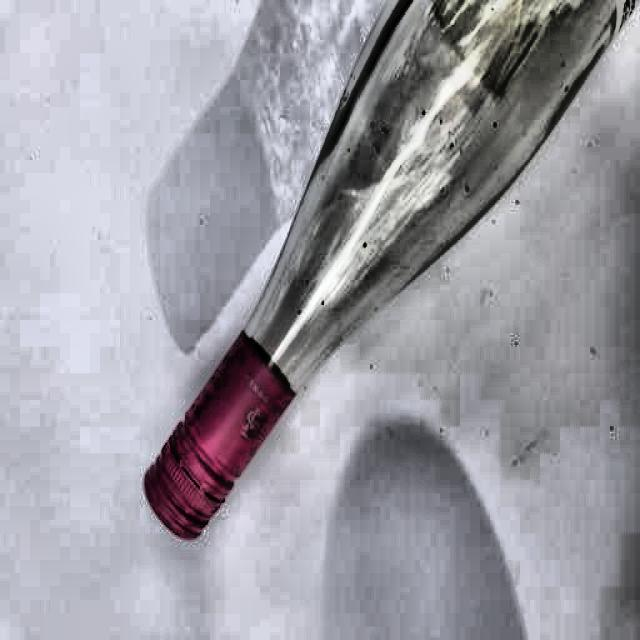glass: (143, 0, 640, 538)
